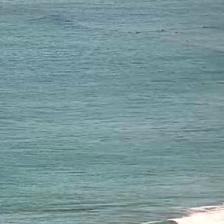surfer: (203, 25, 211, 28), (135, 31, 141, 34), (173, 31, 179, 34), (161, 28, 165, 32)
